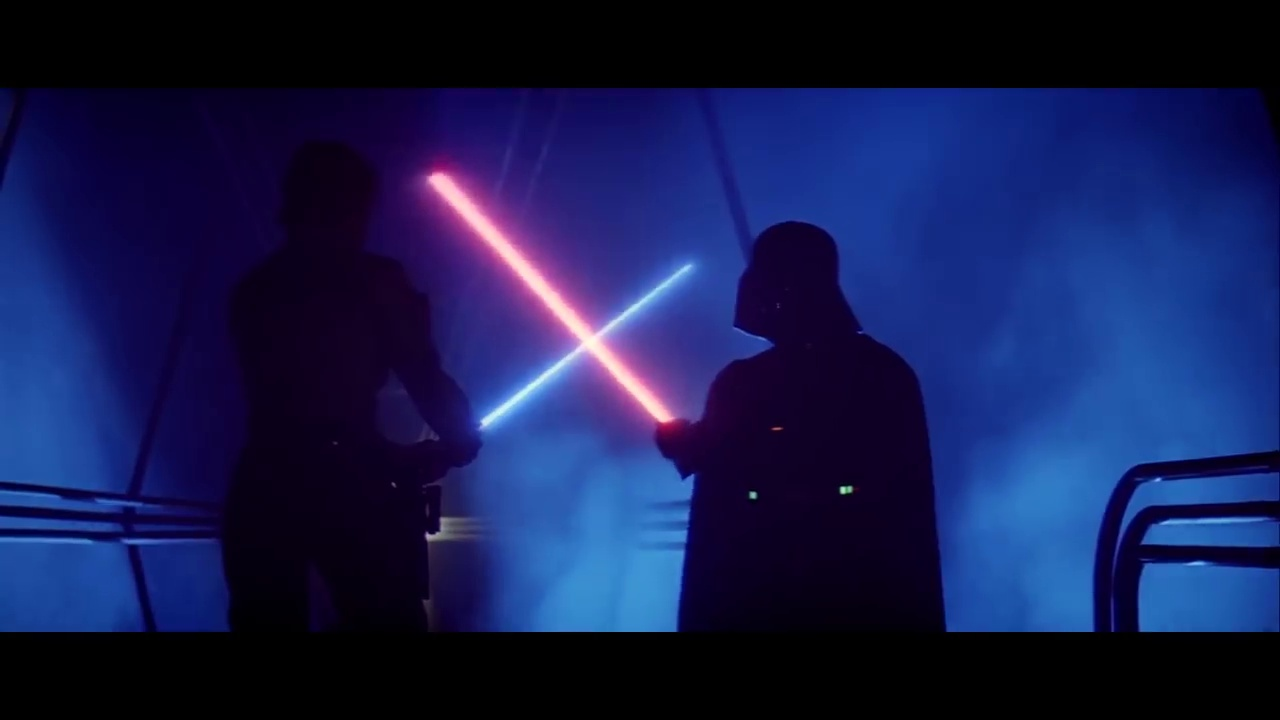lightsaber: (408, 170, 698, 448)
